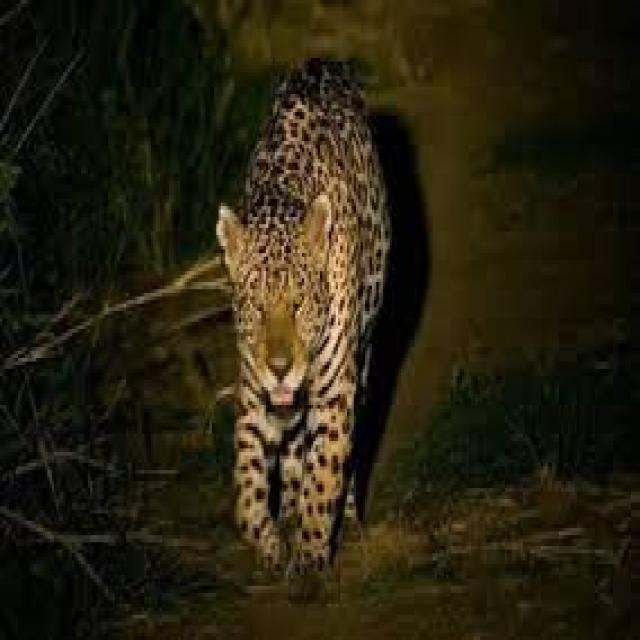Jaguar: (178, 58, 442, 582)
